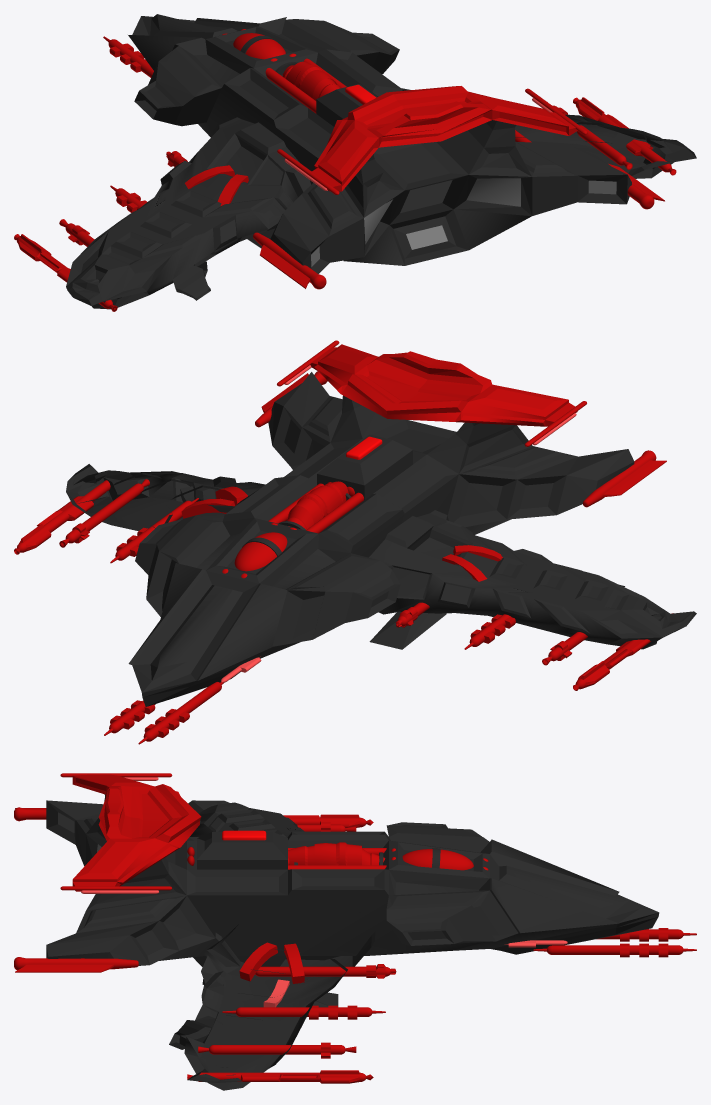
File: VaisseauMid.fbx
3 views of the same model, one above another, from view 1: azimuth 30°, elevation 25°; view 2: azimuth 150°, elevation 25°; view 3: azimuth 270°, elevation 25° (orthographic). The views are drawn at different scales.
Parts seen in each view (by area): view 1: Box002; view 2: Box002; view 3: Box002.
Boxes of the visible parts, x1,y1,x2,y2 form: Box002: [14, 14, 696, 311]; Box002: [14, 340, 696, 744]; Box002: [14, 773, 696, 1090].
Size of the model in its own units: 3.07 by 3.16 by 0.8669.
